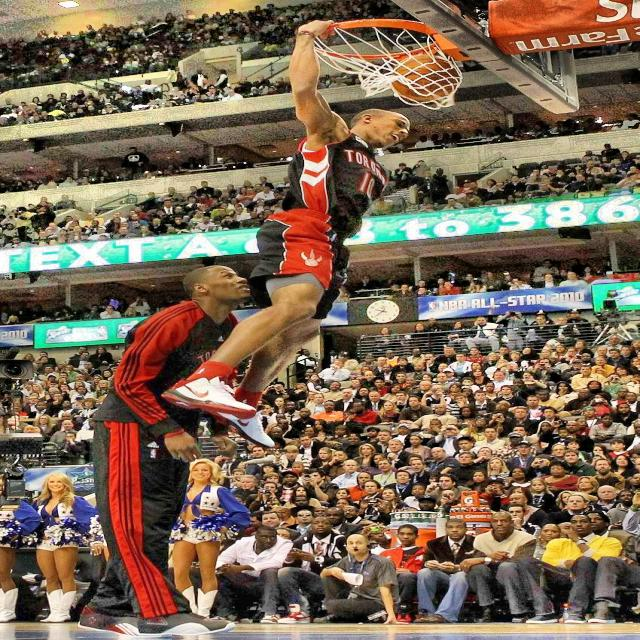board: (389, 54, 463, 102)
